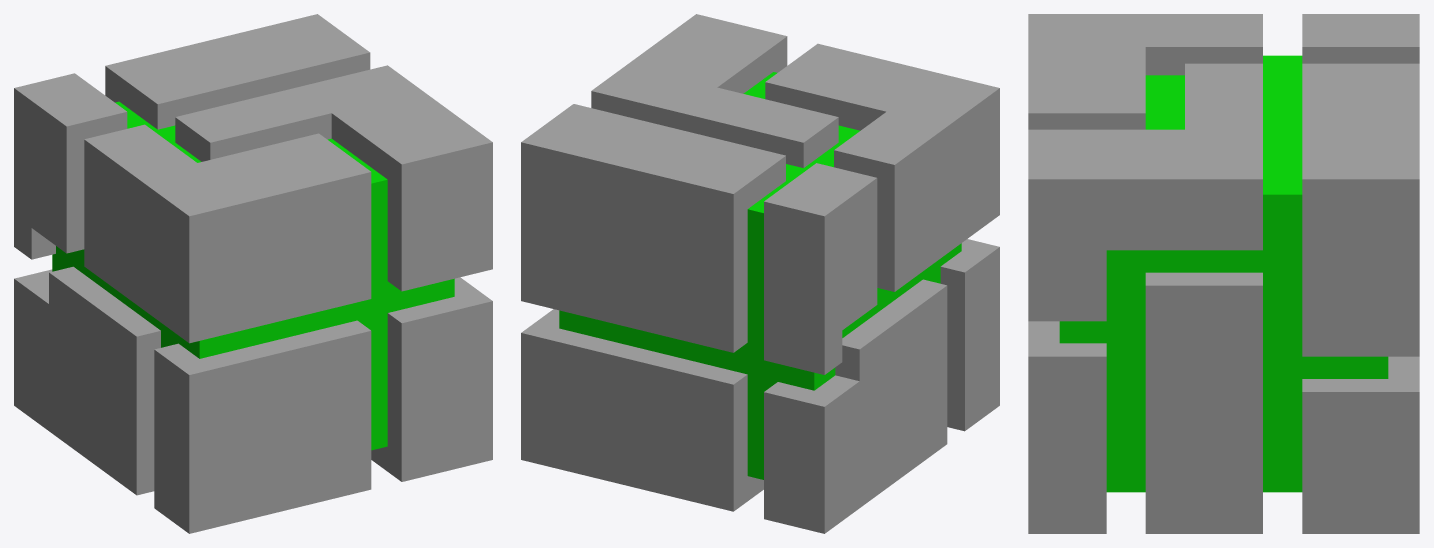
Rendered from devCube.fbx.
The picture shows the model from 3 angles, left to right: view 1: azimuth 30°, elevation 25°; view 2: azimuth 150°, elevation 25°; view 3: azimuth 270°, elevation 25°; orthographic projection. The views are drawn at different scales.
Parts seen in each view (by area): view 1: devCube1; view 2: devCube1; view 3: devCube1.
Boxes of the visible parts, bbox=[...] form: devCube1: bbox=[14, 14, 492, 533]; devCube1: bbox=[521, 14, 999, 533]; devCube1: bbox=[1028, 14, 1419, 533].
Size of the model in its own units: 10 by 10 by 10.
